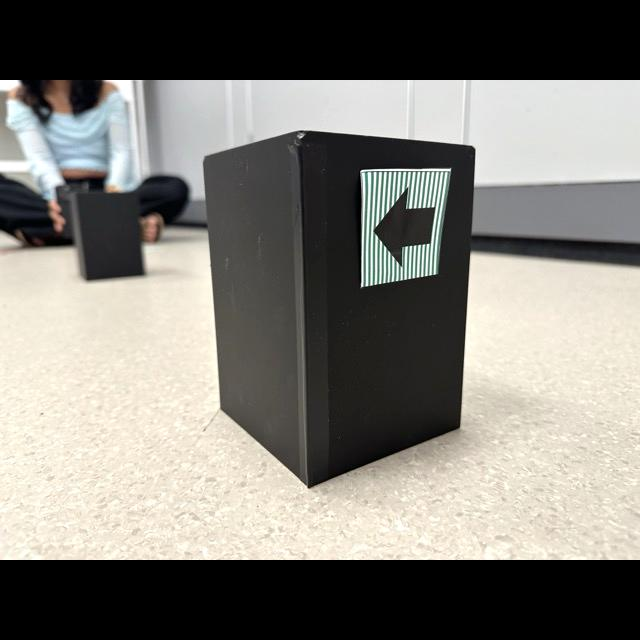LEFT: (374, 188, 434, 266)
